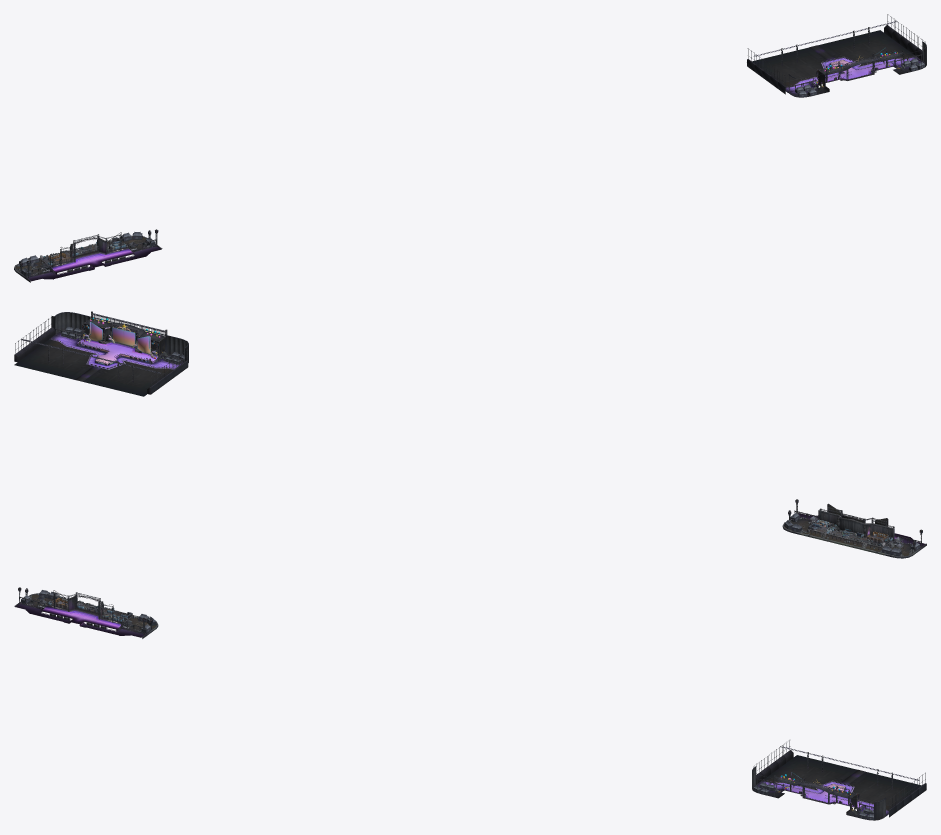
Rendered from febg_domeconcert_001_01.glb.
3 views of the same model, one above another, from view 1: azimuth 30°, elevation 25°; view 2: azimuth 150°, elevation 25°; view 3: azimuth 330°, elevation 25° (orthographic). The views are drawn at different scales.
Parts seen in each view (by area): view 1: febg_domeconcert_001_bg_02, febg_domeconcertbackstage_001_01_bg_02, febg_domeconcert_001_bg_01; view 2: febg_domeconcert_001_bg_02, febg_domeconcert_001_bg_01, febg_domeconcertbackstage_001_01_bg_01, febg_domeconcert_001_main_panel_01, febg_domeconcertbackstage_001_01_bg_02, febg_domeconcertbackstage_001_01_curtain_01, febg_domeconcert_001_bglight_01; view 3: febg_domeconcert_001_bg_02, febg_domeconcertbackstage_001_01_bg_02, febg_domeconcert_001_bg_01.
Boxes of the visible parts, bbox=[...] form: febg_domeconcert_001_bg_02: bbox=[752, 30, 924, 97]; febg_domeconcertbackstage_001_01_bg_02: bbox=[15, 236, 161, 281]; febg_domeconcert_001_bg_01: bbox=[788, 41, 926, 92]; febg_domeconcert_001_bg_02: bbox=[14, 330, 188, 396]; febg_domeconcert_001_bg_01: bbox=[54, 312, 188, 361]; febg_domeconcertbackstage_001_01_bg_01: bbox=[782, 510, 926, 558]; febg_domeconcert_001_main_panel_01: bbox=[83, 322, 157, 356]; febg_domeconcertbackstage_001_01_bg_02: bbox=[784, 513, 924, 556]; febg_domeconcertbackstage_001_01_curtain_01: bbox=[818, 510, 893, 539]; febg_domeconcert_001_bglight_01: bbox=[78, 340, 156, 364]; febg_domeconcert_001_bg_02: bbox=[752, 755, 921, 820]; febg_domeconcertbackstage_001_01_bg_02: bbox=[15, 594, 156, 637]; febg_domeconcert_001_bg_01: bbox=[752, 766, 886, 820].
Size of the model in its own units: 1181 by 33.66 by 118.
Materials: 15 (15 with a texture image).
